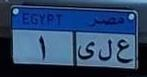1: (37, 33, 48, 60)
ain: (116, 38, 133, 65)
laam: (98, 36, 113, 64)
yaa: (77, 40, 96, 63)
